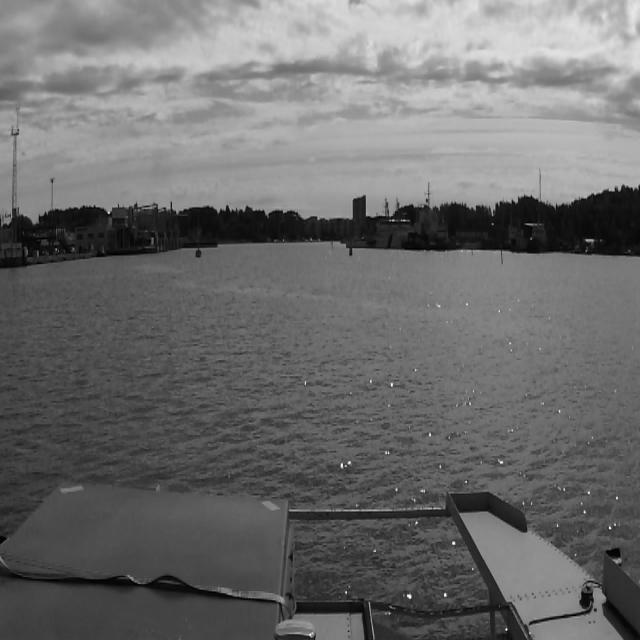buoy: (349, 240, 352, 256)
ship: (347, 197, 417, 247), (417, 181, 447, 248)
